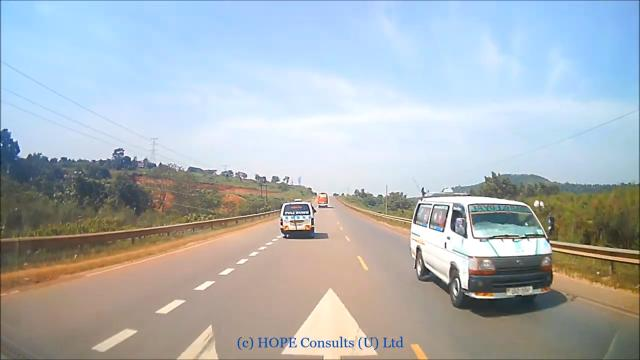van: (405, 195, 555, 307), (276, 192, 330, 238)
